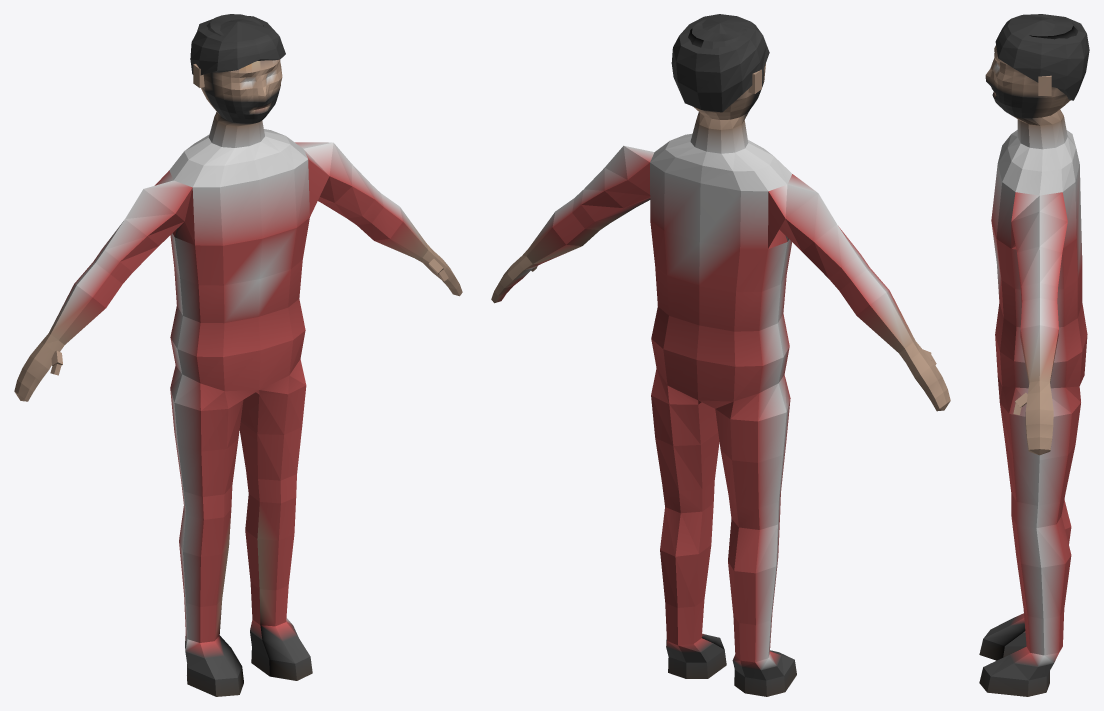
Rendered from char__pessoa__piloto_h07.glb.
3 renders of one model, left to right at view 1: azimuth 30°, elevation 25°; view 2: azimuth 150°, elevation 25°; view 3: azimuth 270°, elevation 25°, orthographic. The views are drawn at different scales.
Visible parts, largest first — view 1: char__pessoa__piloto_h07; view 2: char__pessoa__piloto_h07; view 3: char__pessoa__piloto_h07.
Boxes of the visible parts, <box> form: char__pessoa__piloto_h07: <box>14,14,462,696</box>; char__pessoa__piloto_h07: <box>491,14,950,696</box>; char__pessoa__piloto_h07: <box>979,14,1089,696</box>.
Bounding box in the file's own units: 1.36 × 1.91 × 0.2925.
